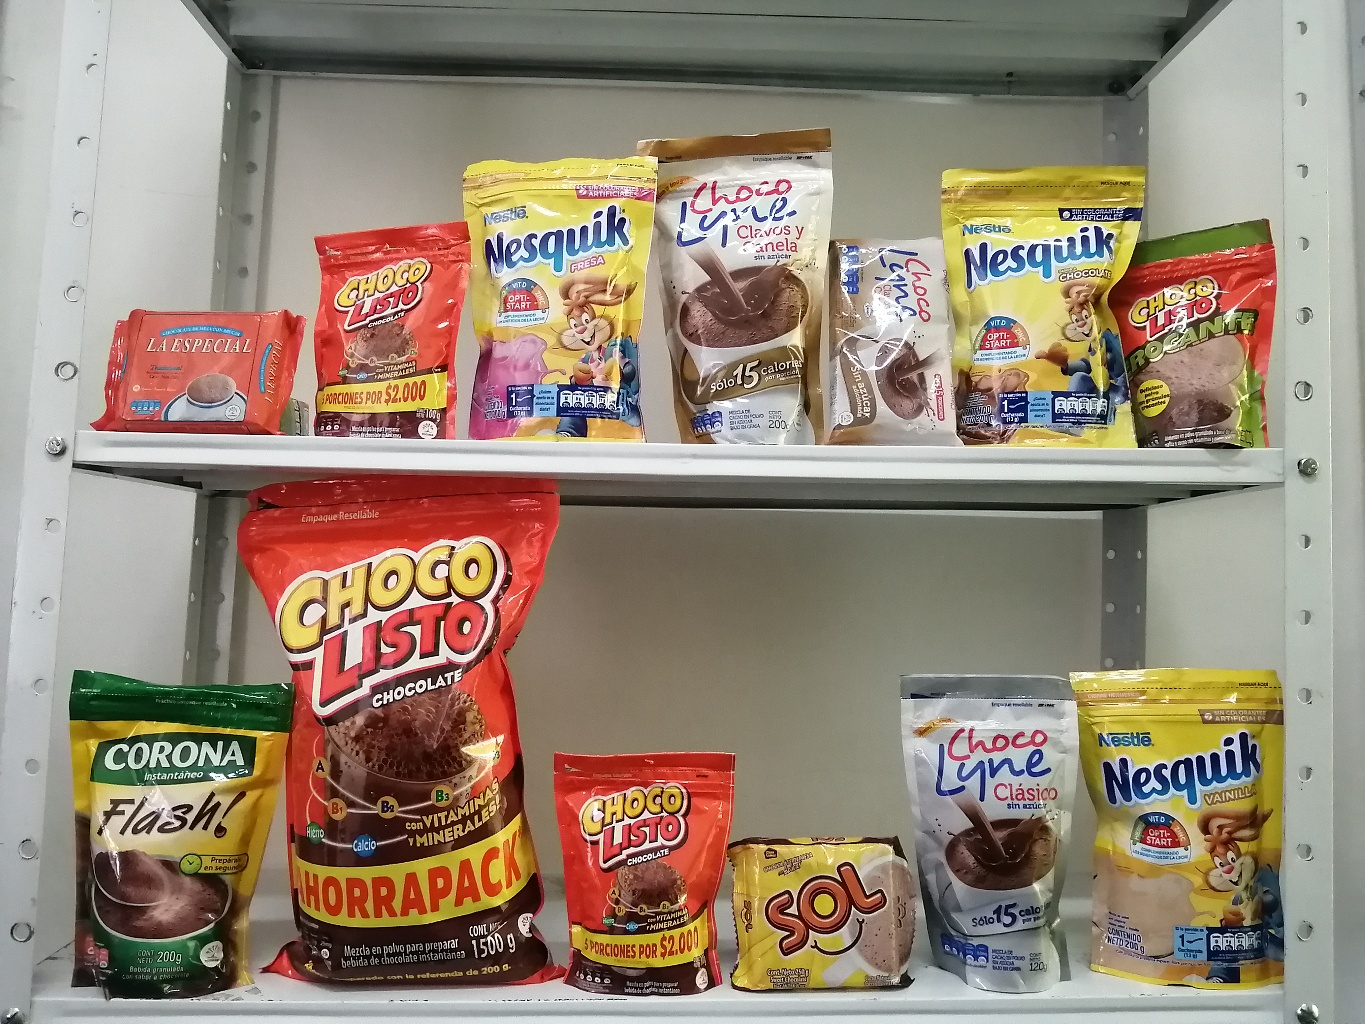COL0170102DYP10000: (1099, 214, 1295, 452)
COL0170103DYP1,500: (227, 467, 599, 999)
COL0170103DYP10000: (288, 203, 484, 458)
COL0170303DYP20000: (933, 150, 1163, 461)
COL0170305DYP20000: (446, 136, 671, 452)
COL0170306DYP20000: (1047, 636, 1334, 1005)
